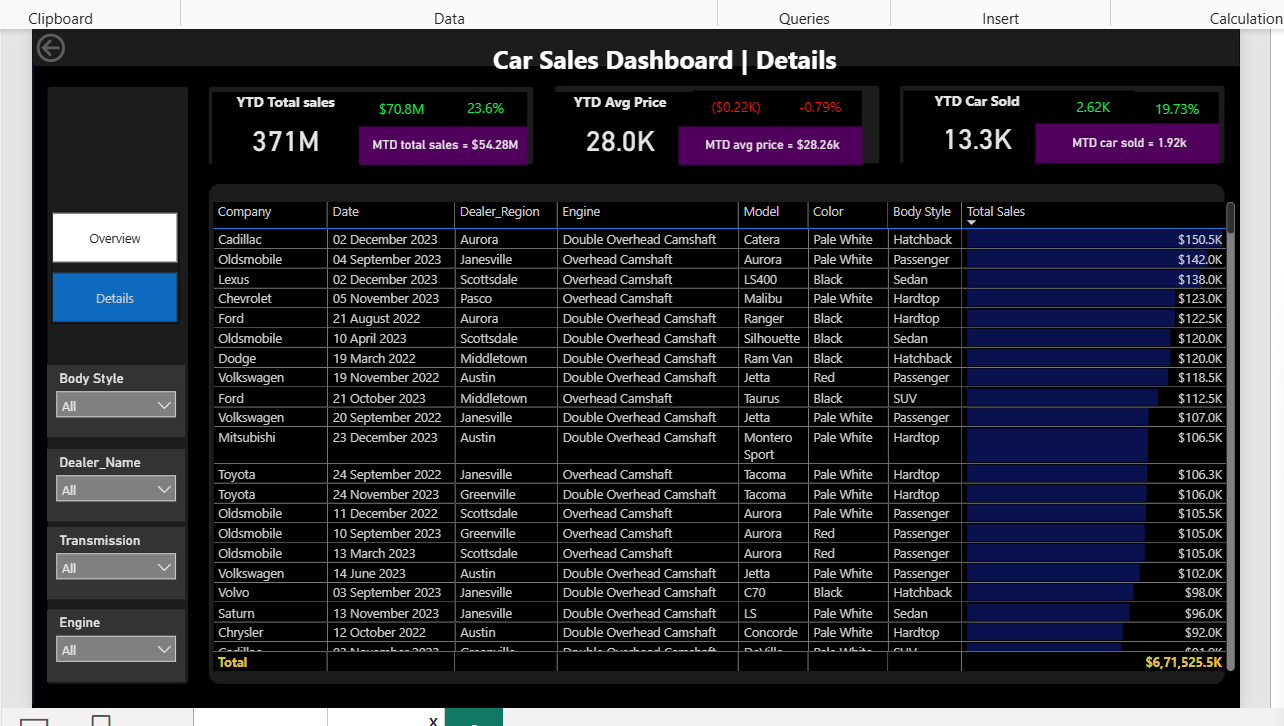

The dashboard page shown, as its layout file describes it:
{"tool":"powerbi","page":{"name":" Details","canvas":[1280,720],"ordinal":1},"visuals":[{"type":"card","title":"YTD Total sales","fields":{"Values":["car_data.YTD Total Sales"]},"box":[190.3,66.7,156.1,78.1],"z":0},{"type":"card","fields":{"Values":["car_data.Sales Difference"]},"box":[346.5,66.7,89.5,39],"z":1000},{"type":"card","fields":{"Values":["car_data.YoY sales Growth"]},"box":[435.9,66.7,89.5,37.4],"z":2000},{"type":"card","fields":{"Values":["car_data.MTD"]},"box":[346.5,104.1,178.9,40.7],"z":3000},{"type":"card","title":"YTD Avg Price","fields":{"Values":["car_data.YTD Avg price"]},"box":[544.9,66.7,156.1,78.1],"z":4000},{"type":"card","fields":{"Values":["car_data.Price diffence"]},"box":[701,65.1,89.5,39],"z":5000},{"type":"card","fields":{"Values":["car_data.YoY avg price growth"]},"box":[790.5,65.1,89.5,39],"z":6000},{"type":"card","fields":{"Values":["car_data.MTD avg price kpi"]},"box":[684.8,104.1,195.2,40.7],"z":7000},{"type":"card","title":"YTD Car Sold","fields":{"Values":["car_data.YTD car sold"]},"box":[923.9,65.1,156.1,78.1],"z":8000},{"type":"card","fields":{"Values":["car_data.Car sold difference"]},"box":[1080,65.1,89.5,39],"z":9000},{"type":"card","fields":{"Values":["car_data.YoY car sold growth"]},"box":[1169.5,66.7,89.5,39],"z":10000},{"type":"card","fields":{"Values":["car_data.MTD car sold kpi"]},"box":[1063.8,100.8,195.2,42.3],"z":11000},{"type":"actionButton","box":[0,0,100,40],"z":12000},{"type":"textbox","box":[431,8.1,479.8,50.4],"z":13000},{"type":"slicer","fields":{"Values":["car_data.Body Style"]},"box":[16.3,356.2,146.4,76.4],"z":14000},{"type":"slicer","fields":{"Values":["car_data.Dealer_Name"]},"box":[15.7,444.6,146.4,76.4],"z":15000},{"type":"slicer","fields":{"Values":["car_data.Engine"]},"box":[16.3,615.4,146.4,76.4],"z":16000},{"type":"slicer","fields":{"Values":["car_data.Transmission"]},"box":[16.3,527.5,146.4,76.4],"z":17000},{"type":"tableEx","fields":{"Values":["car_data.Company","car_data.Date","car_data.Dealer_Region","car_data.Engine","car_data.Model","car_data.Color","car_data.Body Style","Sum(car_data.Price ($))"]},"box":[185.4,178.9,1094.7,507.5],"z":18000},{"type":"pageNavigator","box":[21.1,193.6,135,118.7],"z":19000}]}

Visuals, with their boxes on the page's 1280x720 design canvas (x1, y1, x2, y2). These are canvas units, not pixel positions in the 1284x726 screenshot, which may show the page scaled, cropped or inside an application window:
"YTD Total sales" card: 190:67:346:145
card - car_data.Sales Difference: 346:67:436:106
card - car_data.YoY sales Growth: 436:67:525:104
card - car_data.MTD: 346:104:525:145
"YTD Avg Price" card: 545:67:701:145
card - car_data.Price diffence: 701:65:790:104
card - car_data.YoY avg price growth: 790:65:880:104
card - car_data.MTD avg price kpi: 685:104:880:145
"YTD Car Sold" card: 924:65:1080:143
card - car_data.Car sold difference: 1080:65:1170:104
card - car_data.YoY car sold growth: 1170:67:1259:106
card - car_data.MTD car sold kpi: 1064:101:1259:143
actionButton: 0:0:100:40
textbox: 431:8:911:58
slicer - car_data.Body Style: 16:356:163:433
slicer - car_data.Dealer_Name: 16:445:162:521
slicer - car_data.Engine: 16:615:163:692
slicer - car_data.Transmission: 16:528:163:604
tableEx - car_data.Company x car_data.Date: 185:179:1280:686
pageNavigator: 21:194:156:312
